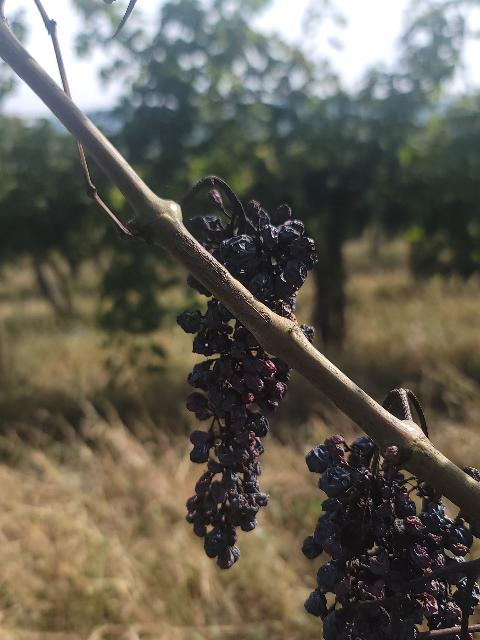grapes: (302, 435, 480, 640), (178, 299, 290, 569), (191, 200, 316, 319)
